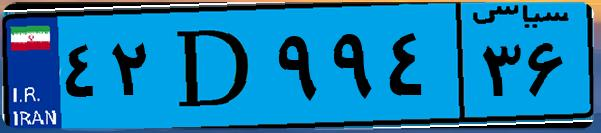2: (110, 28, 158, 98)
3: (475, 38, 525, 113)
4: (385, 28, 445, 110), (57, 26, 110, 100)
6: (525, 38, 570, 115)
9: (270, 28, 330, 110), (330, 28, 385, 110)
D: (158, 12, 270, 120)
